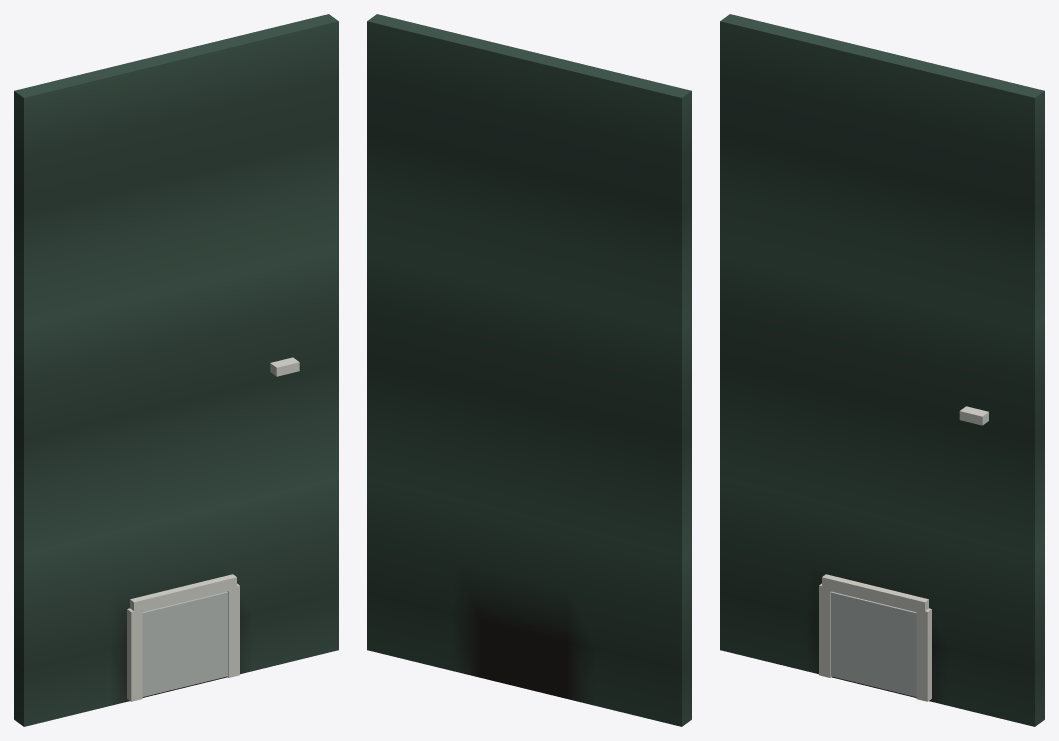
File: CatFlap.glb
3 views of the same model, side by side, from view 1: azimuth 30°, elevation 25°; view 2: azimuth 150°, elevation 25°; view 3: azimuth 330°, elevation 25° (orthographic).
Parts seen in each view (by area): view 1: BackDoorOut, Flap, FlapFrame; view 2: BackDoorOut; view 3: BackDoorOut, Flap, FlapFrame.
Part boxes in pixels (x1=…): BackDoorOut: x1=14, y1=14, x2=338, y2=726; Flap: x1=142, y1=591, x2=227, y2=696; FlapFrame: x1=127, y1=357, x2=299, y2=701; BackDoorOut: x1=367, y1=14, x2=691, y2=726; BackDoorOut: x1=720, y1=14, x2=1044, y2=726; Flap: x1=831, y1=591, x2=916, y2=696; FlapFrame: x1=819, y1=406, x2=988, y2=701.
Size of the model in its own units: 1.1 by 2.1 by 0.1.
